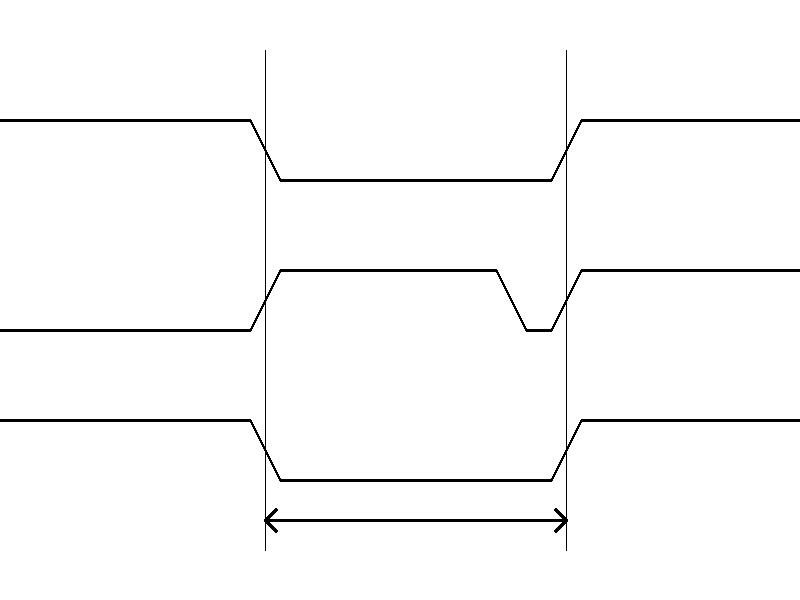double_arrow: (265, 505, 566, 535)
